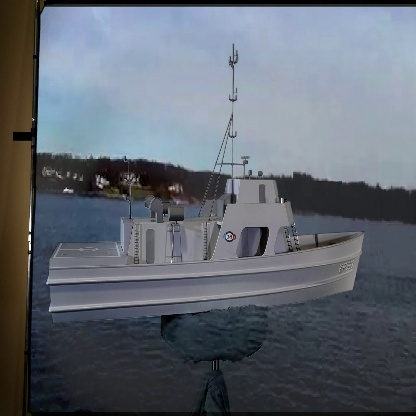YP689: (47, 40, 366, 326)
